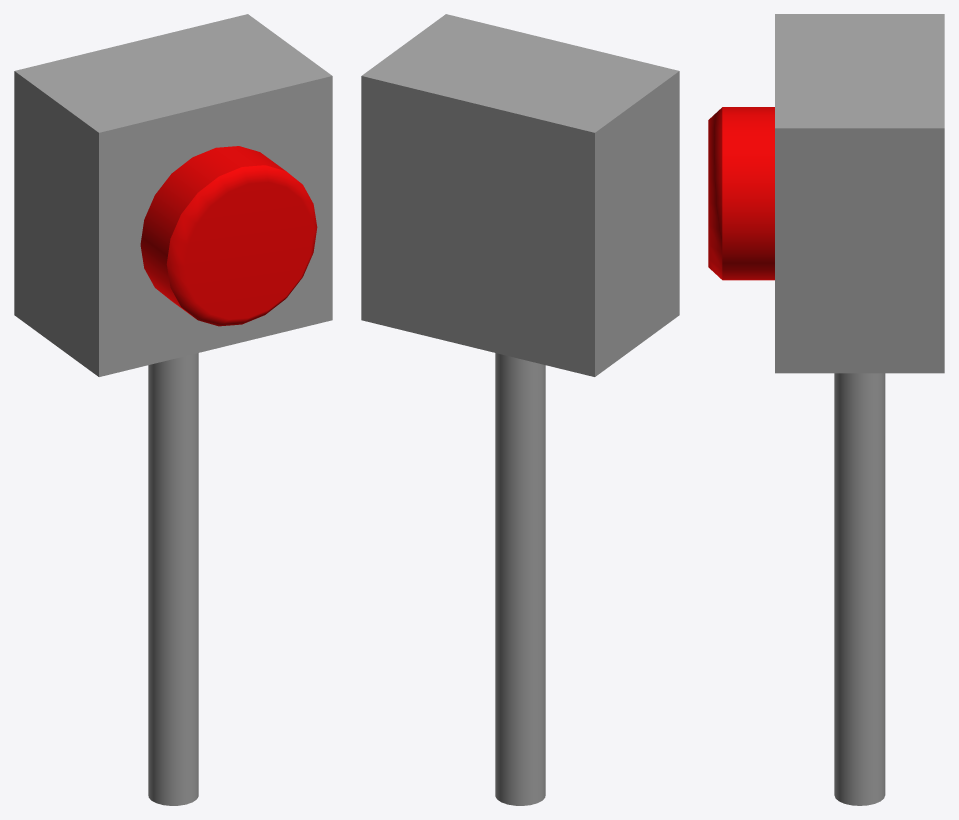
File: ButtonBox.fbx
3 views of the same model, side by side, from view 1: azimuth 30°, elevation 25°; view 2: azimuth 150°, elevation 25°; view 3: azimuth 270°, elevation 25° (orthographic).
Parts seen in each view (by area): view 1: pCylinder15; view 2: pCylinder15; view 3: pCylinder15.
Part boxes in pixels (x1,y1,x2,y2): pCylinder15: (14,14,332,805); pCylinder15: (361,14,679,805); pCylinder15: (708,14,944,805).
Size of the model in its own units: 6.33 by 18.71 by 5.53.
